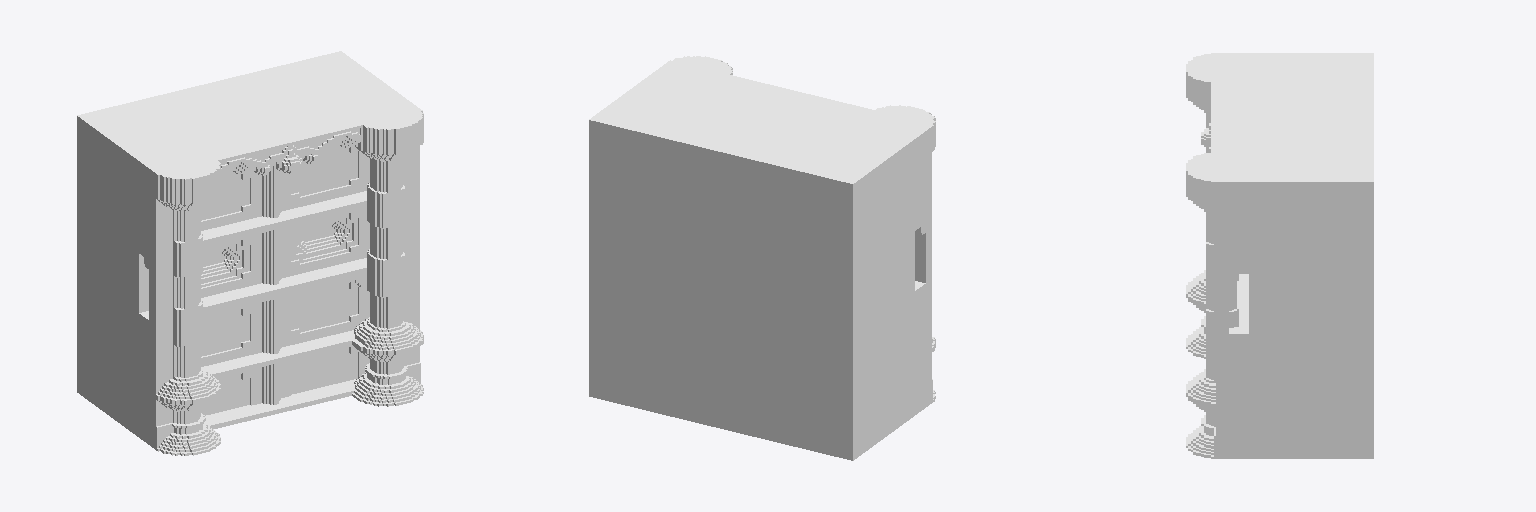
File: bureau_mobilier-0.obj
3 renders of one model, left to right at view 1: azimuth 30°, elevation 25°; view 2: azimuth 150°, elevation 25°; view 3: azimuth 270°, elevation 25°, orthographic.
Parts seen in each view (by area): view 1: object 1; view 2: object 1; view 3: object 1.
Boxes of the visible parts, box(x1,y1,x2,y2) form: object 1: box(77, 51, 423, 455); object 1: box(589, 56, 935, 460); object 1: box(1186, 53, 1373, 458).
Size of the model in its own units: 12 by 12 by 7.4.